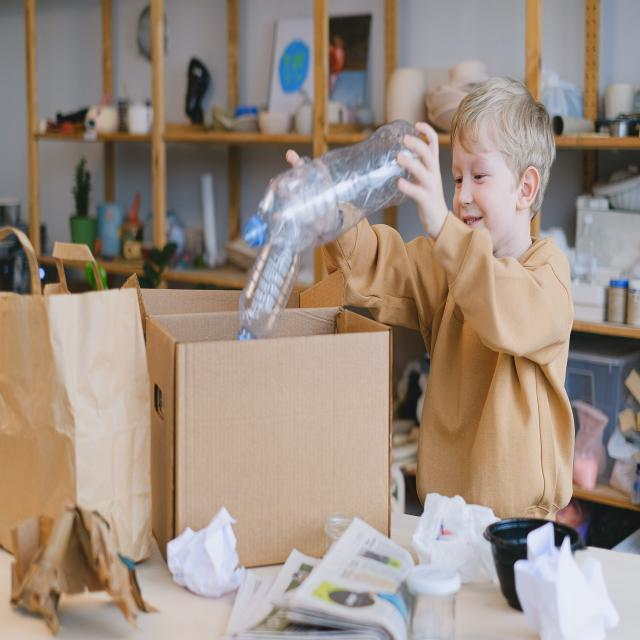paper: (290, 565, 393, 638)
plastic: (249, 221, 295, 311)
